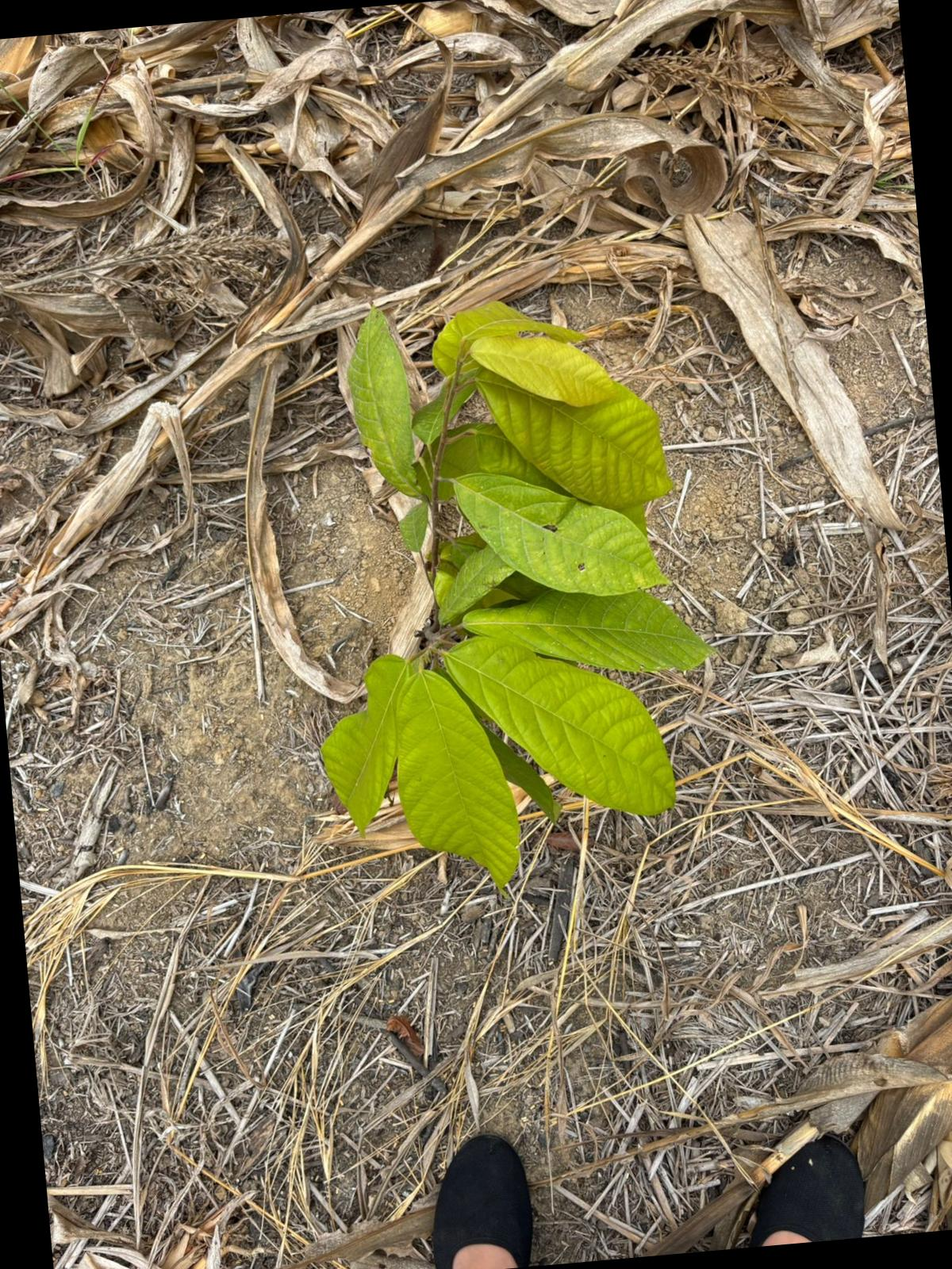Nitrogeno: (446, 637, 676, 815), (397, 671, 519, 884), (463, 591, 712, 671), (323, 656, 412, 835), (473, 337, 615, 406)
